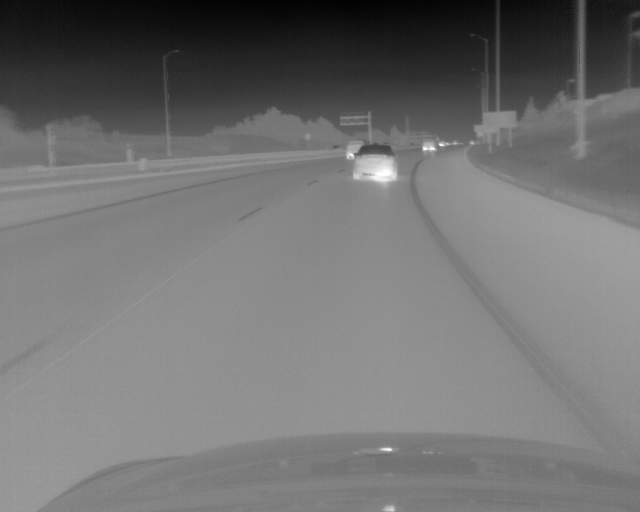car: (352, 143, 400, 182), (345, 140, 364, 159), (422, 138, 437, 151)
